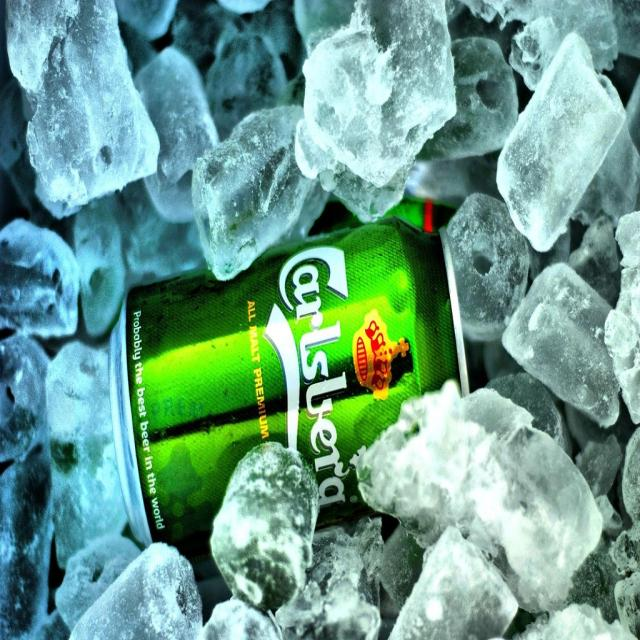carlsberg: (259, 240, 419, 516)
